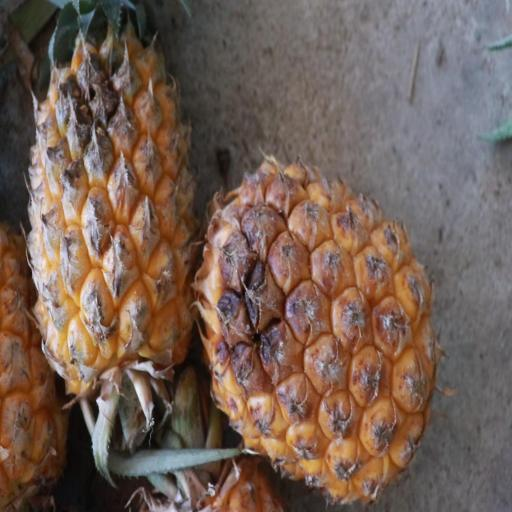Pineapple - v8 v1: (193, 157, 442, 512), (14, 0, 192, 402)
